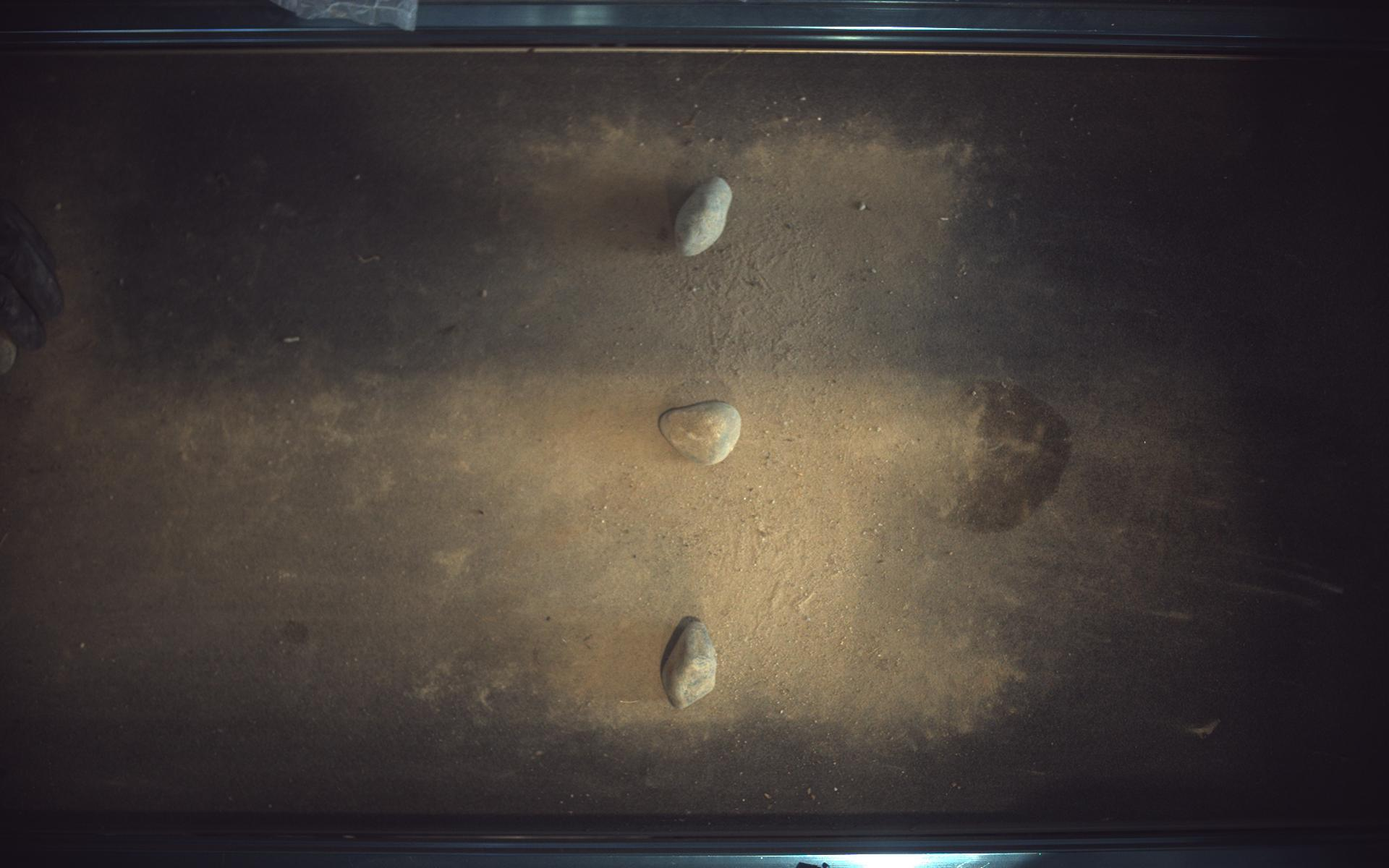stone: (660, 401, 742, 465), (663, 620, 718, 710), (676, 176, 734, 256)
